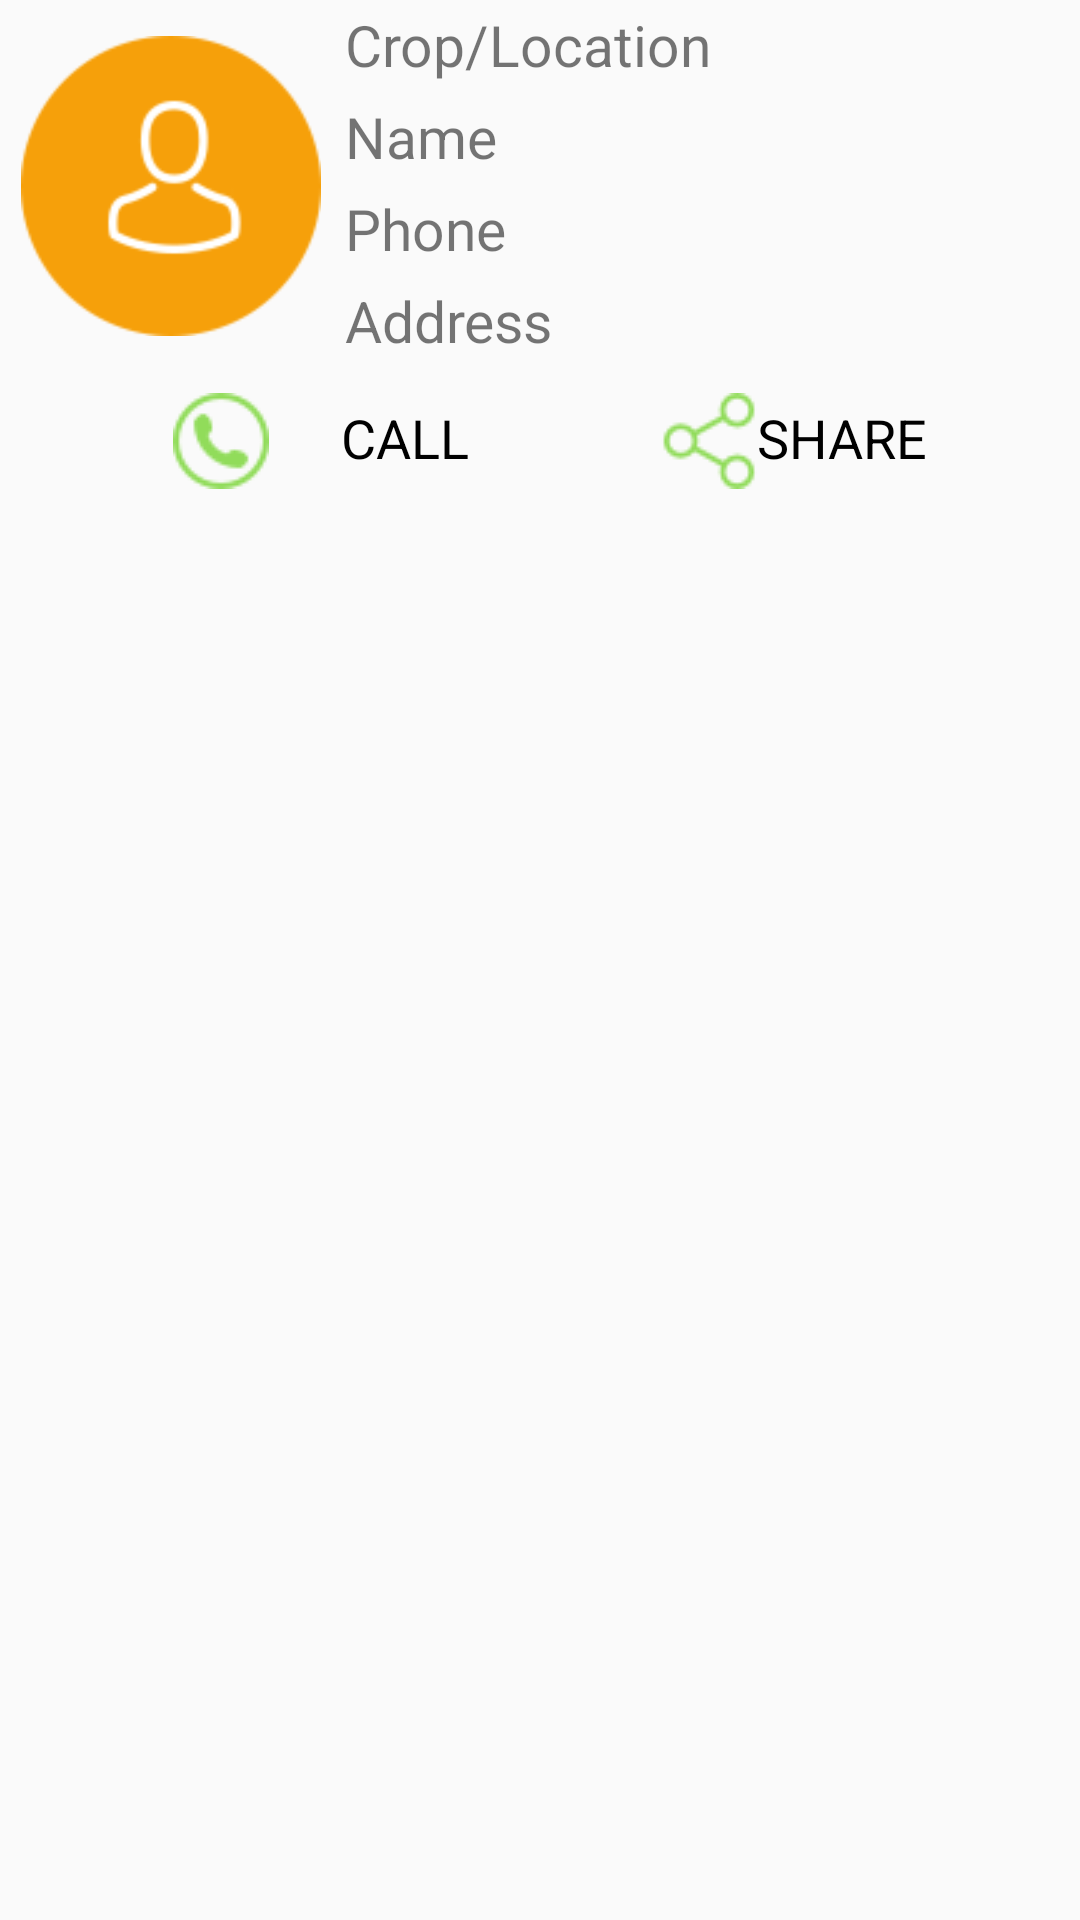

Named icons in this screenshot (1080 × 1920) and their centers, [x,y]:
user: [171,186]
